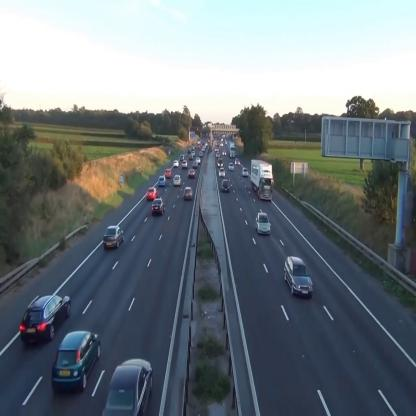car: (100, 357, 153, 416), (52, 330, 102, 392), (20, 293, 71, 345), (284, 256, 313, 297), (104, 225, 124, 249), (256, 212, 272, 236), (152, 198, 165, 216), (147, 187, 158, 201), (183, 188, 193, 200), (158, 175, 167, 188), (172, 175, 182, 186), (164, 168, 172, 179), (221, 180, 229, 191), (218, 168, 226, 178), (188, 169, 196, 178), (242, 167, 249, 176), (218, 157, 223, 167), (173, 160, 179, 168), (182, 159, 187, 168)
lorry: (251, 159, 275, 203)
